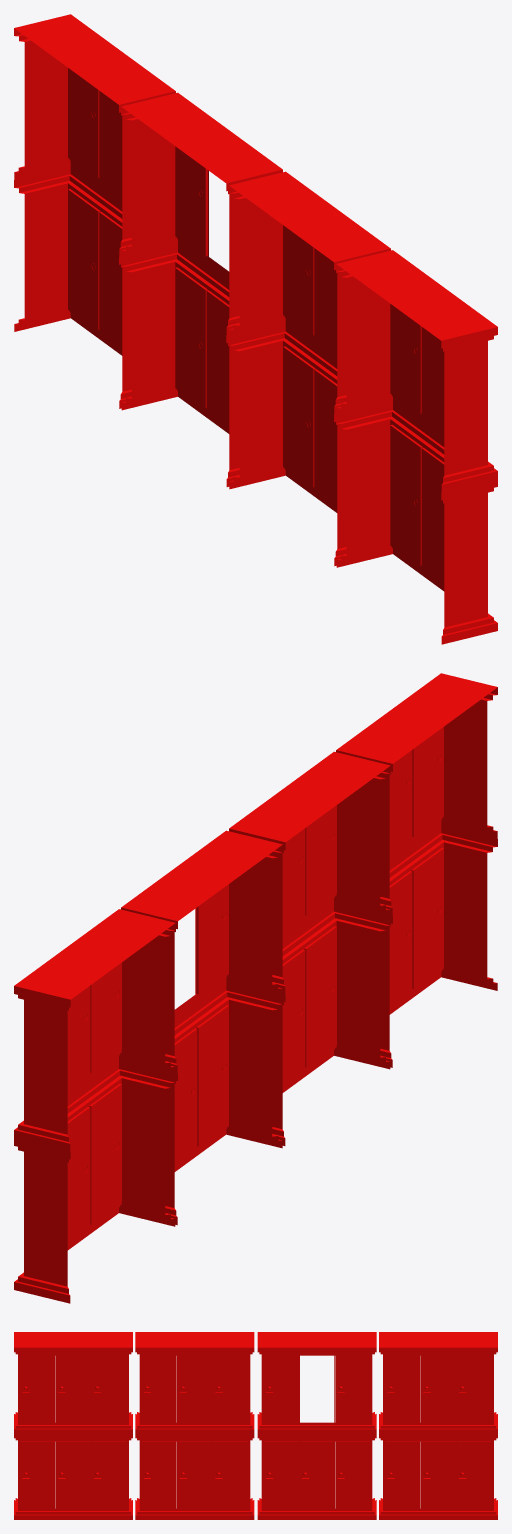
3 renders of one model, top to bottom at view 1: azimuth 30°, elevation 25°; view 2: azimuth 150°, elevation 25°; view 3: azimuth 270°, elevation 25°, orthographic. The views are drawn at different scales.
Visible parts, largest first — view 1: Uv_002; view 2: Uv_002; view 3: Uv_002.
Boxes of the visible parts, bbox=[...] form: Uv_002: bbox=[14, 14, 497, 644]; Uv_002: bbox=[14, 673, 497, 1303]; Uv_002: bbox=[14, 1332, 497, 1519].
Size of the model in its own units: 44.78 by 229 by 583.
